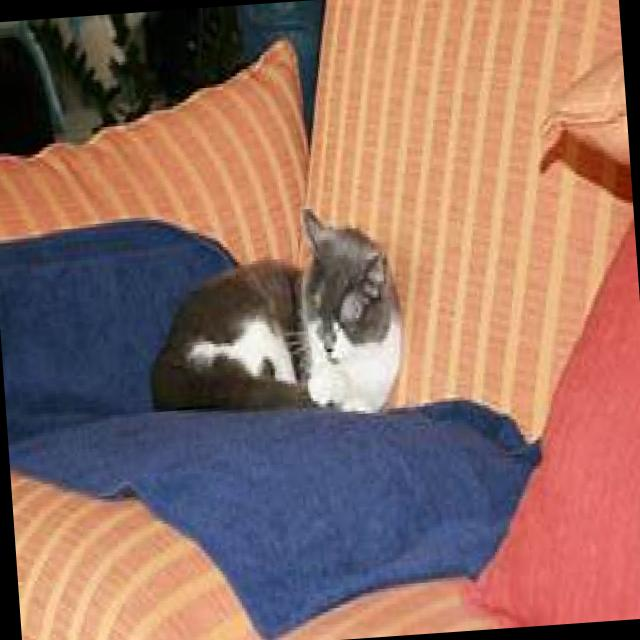cat: (138, 200, 408, 425)
